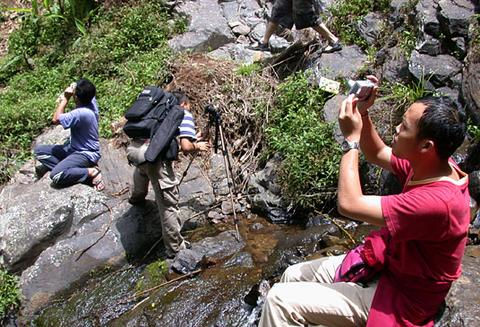person: (261, 77, 472, 327), (34, 80, 105, 189)
